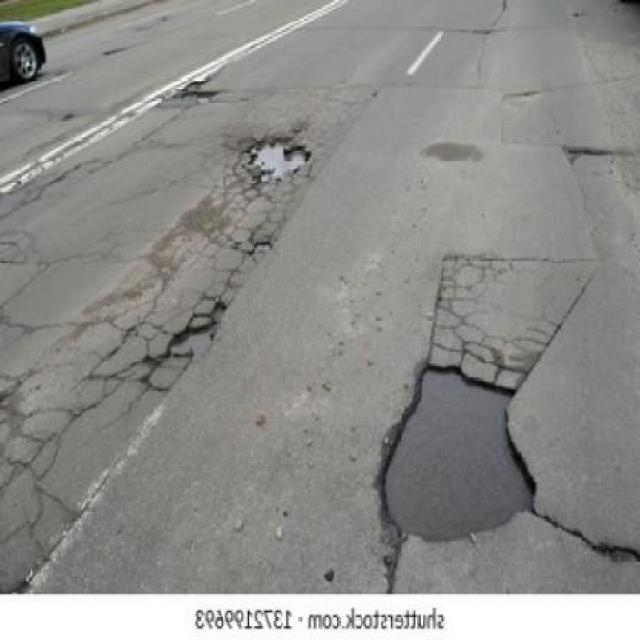Pothole: (375, 362, 541, 547), (244, 135, 312, 188)
